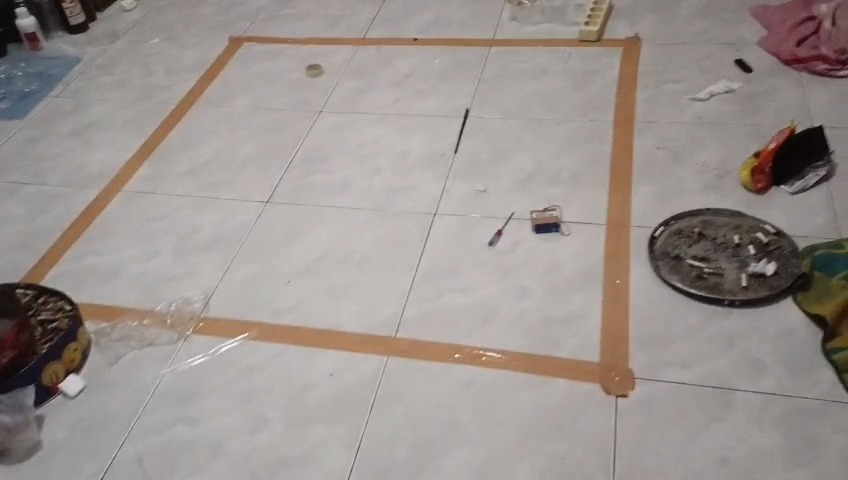floor marking: (23, 35, 640, 396), (81, 304, 147, 320)
